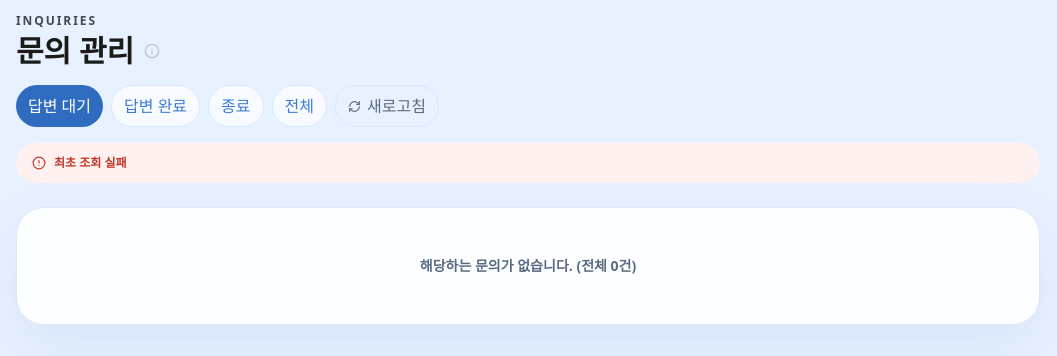
Test: AdminInquiriesClient shell badge refresh › 최초 조회 실패는 오류로 보여주고 사용자가 재시도할 수 있다
Check: the text "최초 조회 실패" is shown, box x1=16 y1=143 x2=1040 y2=183
Step 1. Click the button "새로고침" → (387, 106), box x1=335 y1=85 x2=439 y2=127
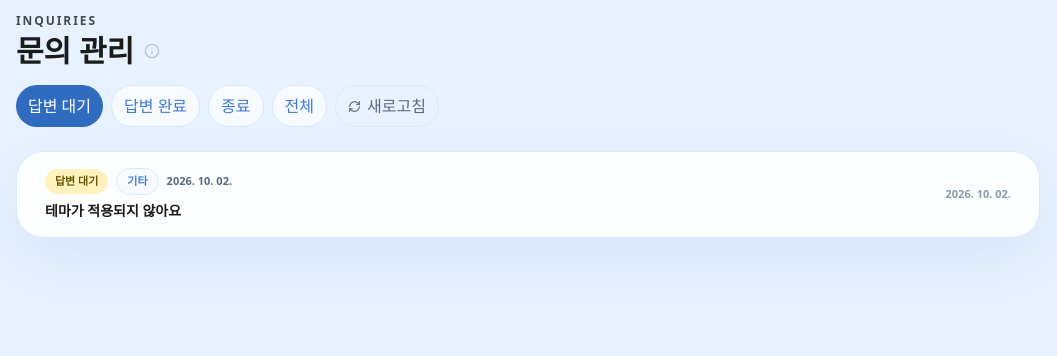
Check: the text "테마가 적용되지 않아요" is shown, box x1=45 y1=200 x2=181 y2=220
Check: the text "최초 조회 실패" is gone
